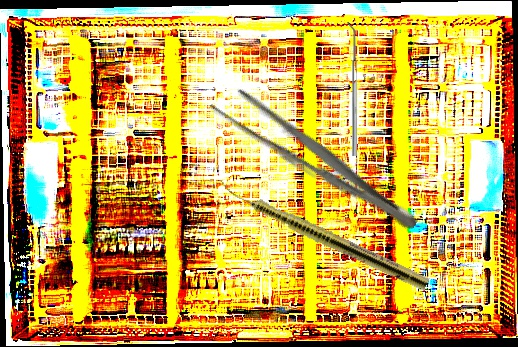Dressing Forceps: (205, 77, 428, 242)
Handpiece: (214, 178, 431, 292)
Spatula Surgical: (347, 22, 357, 156)
